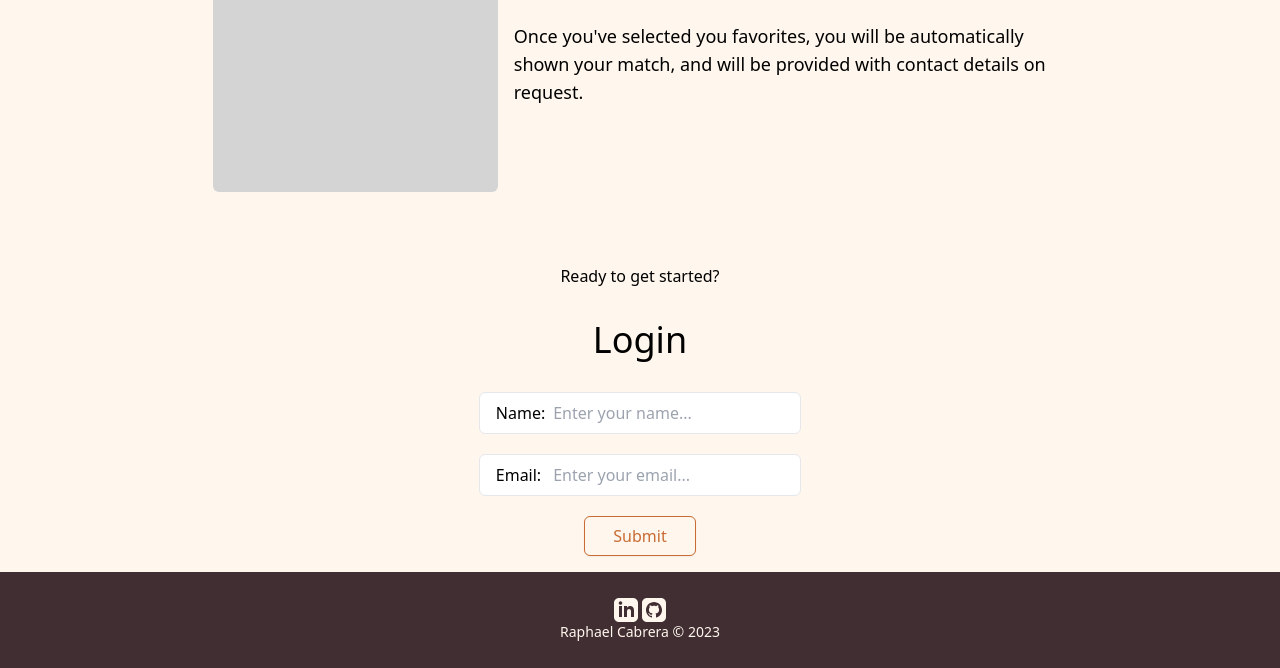
The login process › fails login if name is too short
(page scrolled)
Step 1. Type "ab" into the field named "name" → [669, 413], box [553,401,784,425]
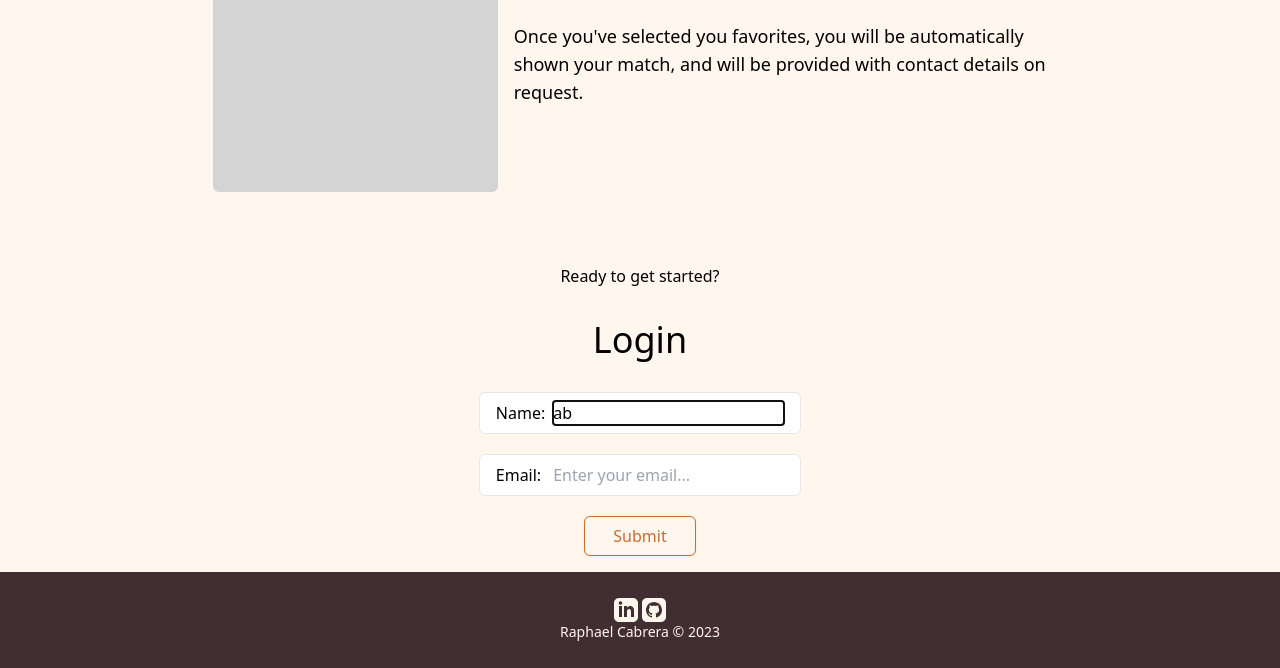
Step 2. Type "test@test.com" into the field named "email" → [669, 475], box [553,463,784,487]
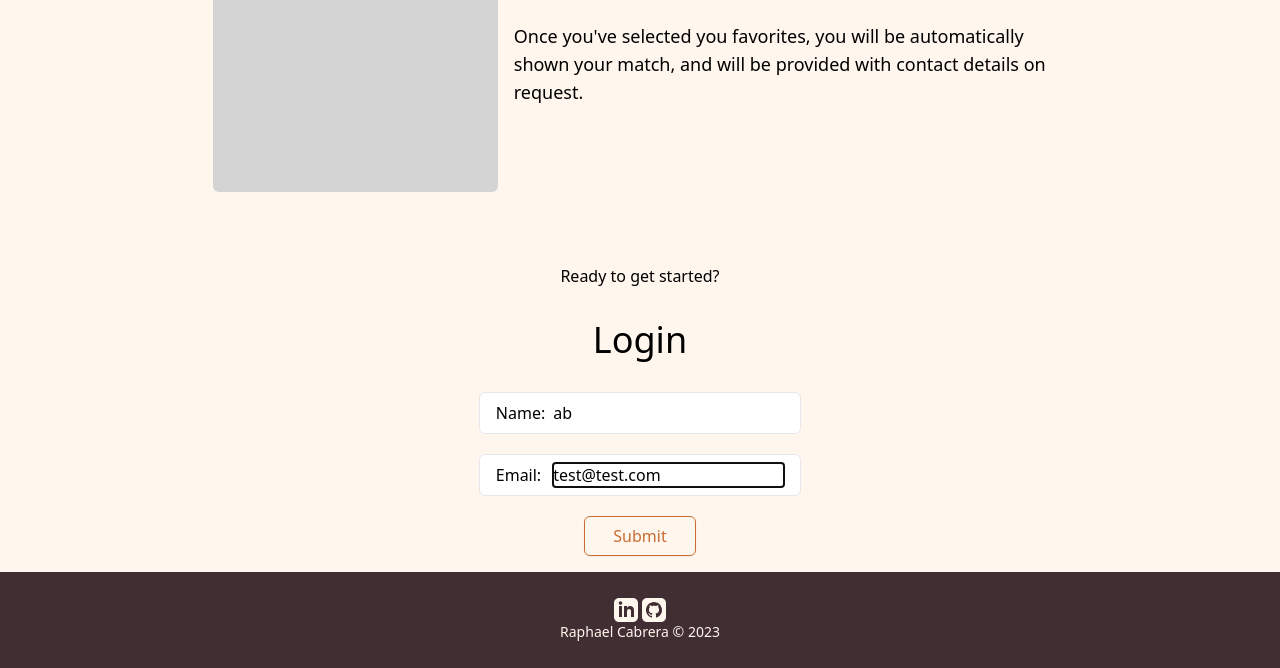
Step 3. Click the submit button → [640, 536], box [584,516,696,556]
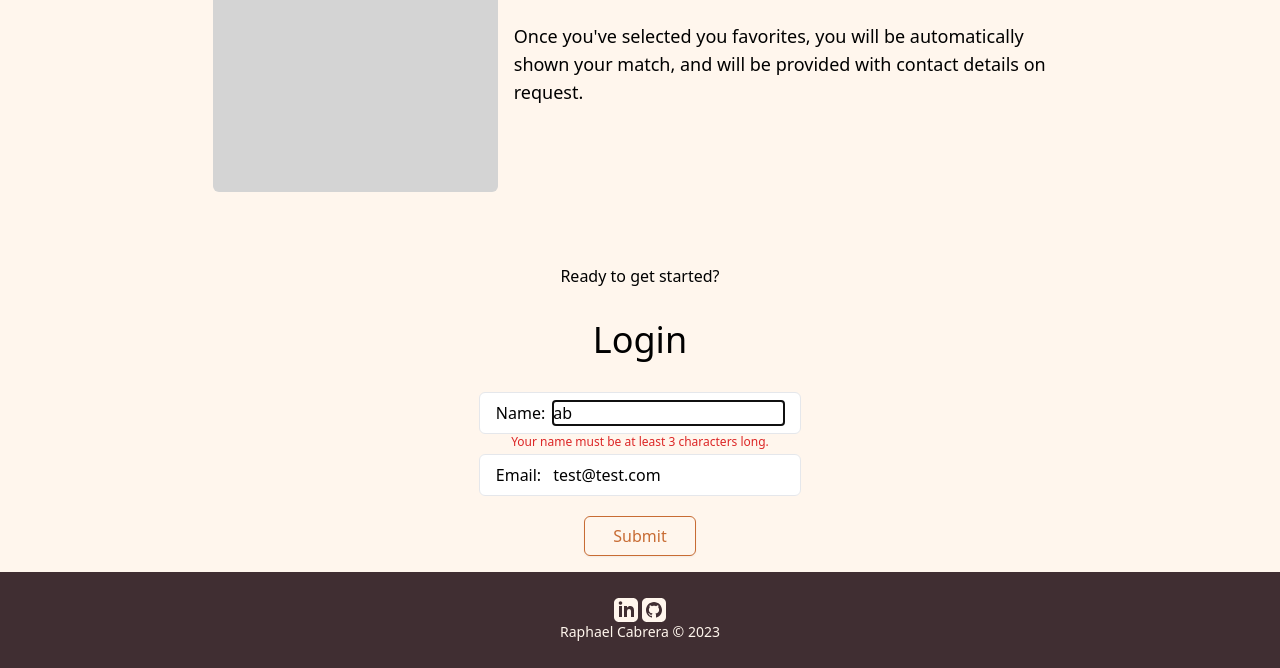
Expected: the text "Your name must be at least 3 characters long." is shown, [511,434,769,450]
